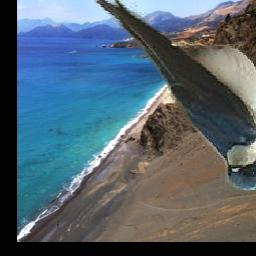Swallow: (94, 0, 256, 192)
